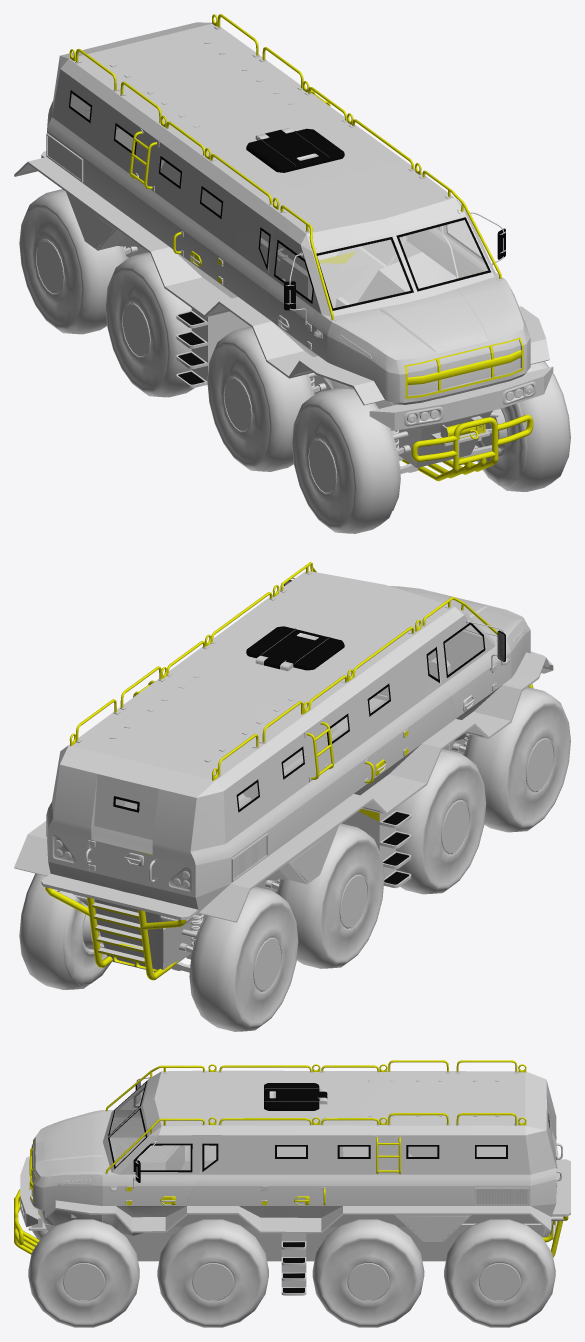
Rendered from car.fbx.
3 renders of one model, top to bottom at view 1: azimuth 30°, elevation 25°; view 2: azimuth 150°, elevation 25°; view 3: azimuth 270°, elevation 25°, orthographic. The views are drawn at different scales.
Parts seen in each view (by area): view 1: camo1, Glass; view 2: camo1, Glass; view 3: camo1, Glass.
Boxes of the visible parts, box(x1,y1,x2,y2) form: camo1: box(14, 14, 570, 533); Glass: box(69, 90, 533, 423); camo1: box(14, 562, 570, 1031); Glass: box(54, 623, 509, 888); camo1: box(14, 1060, 570, 1327); Glass: box(20, 1081, 556, 1217).
Bounding box in the file's own units: 238 × 274 × 676.
